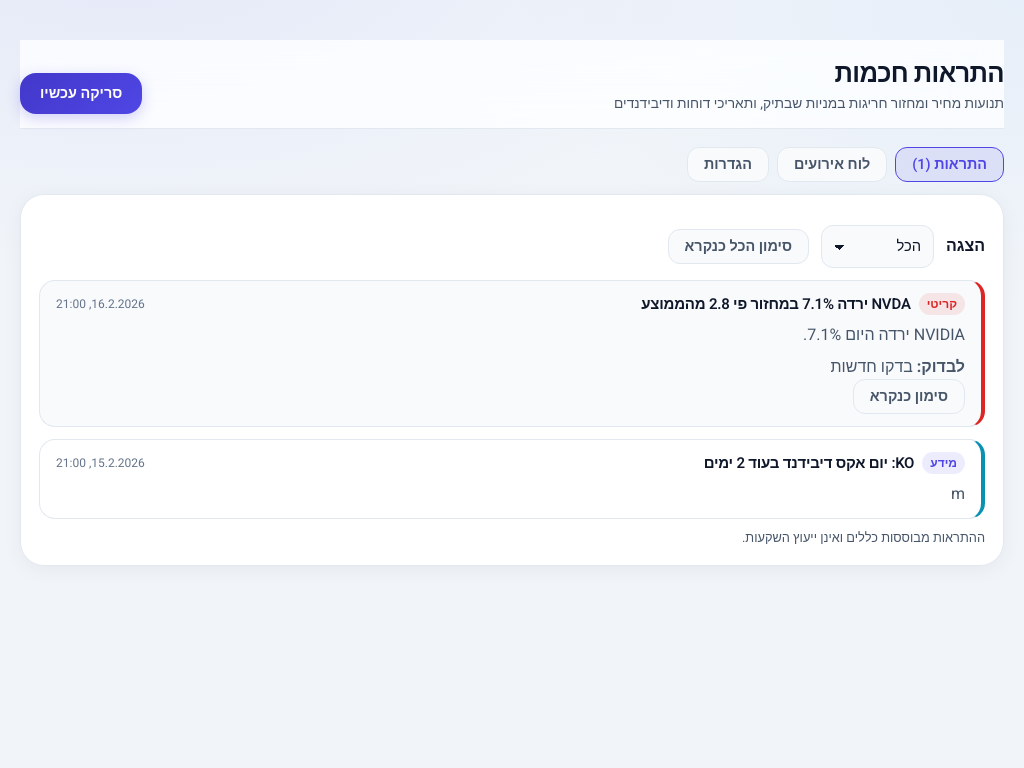
Test: settings tab saves numeric thresholds
The image size is (1024, 768).
Step 1. Click the tab "הגדרות" → coordinates (728, 164), box top-left (687, 147), bottom-right (769, 182)
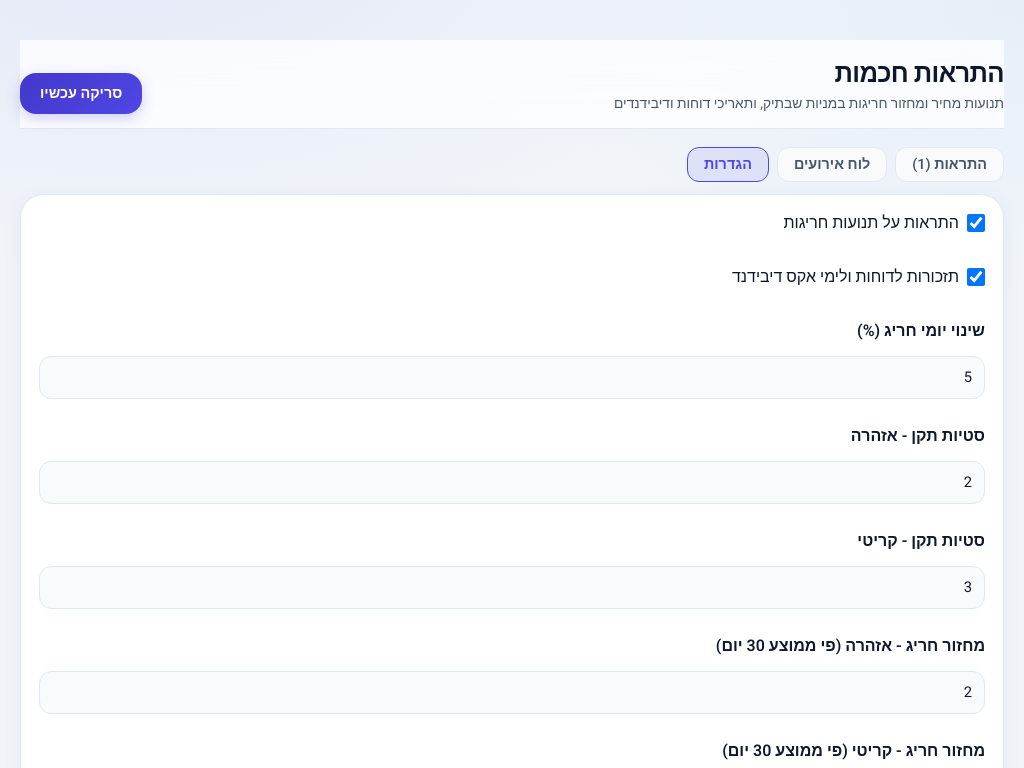
Step 2. Replace the text in the number field labelled "שינוי יומי חריג (%)" with "3.5" → coordinates (512, 378), box top-left (39, 356), bottom-right (985, 399)
(page scrolled)
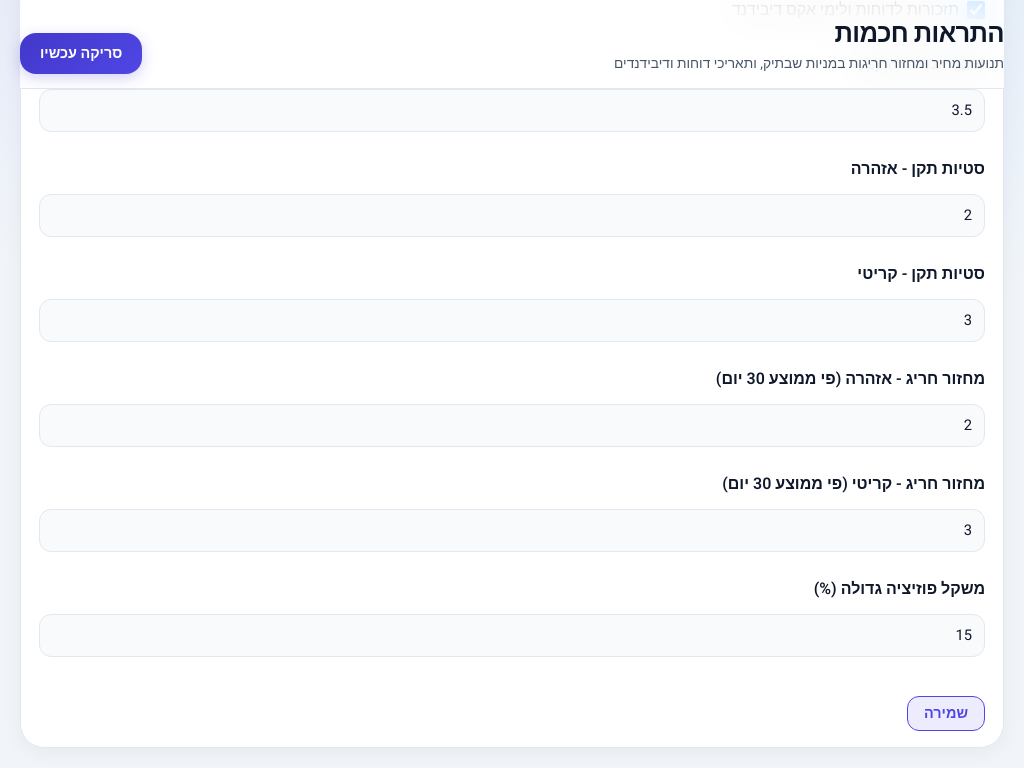
Step 3. Click the button "שמירה" → coordinates (946, 714), box top-left (907, 696), bottom-right (985, 731)
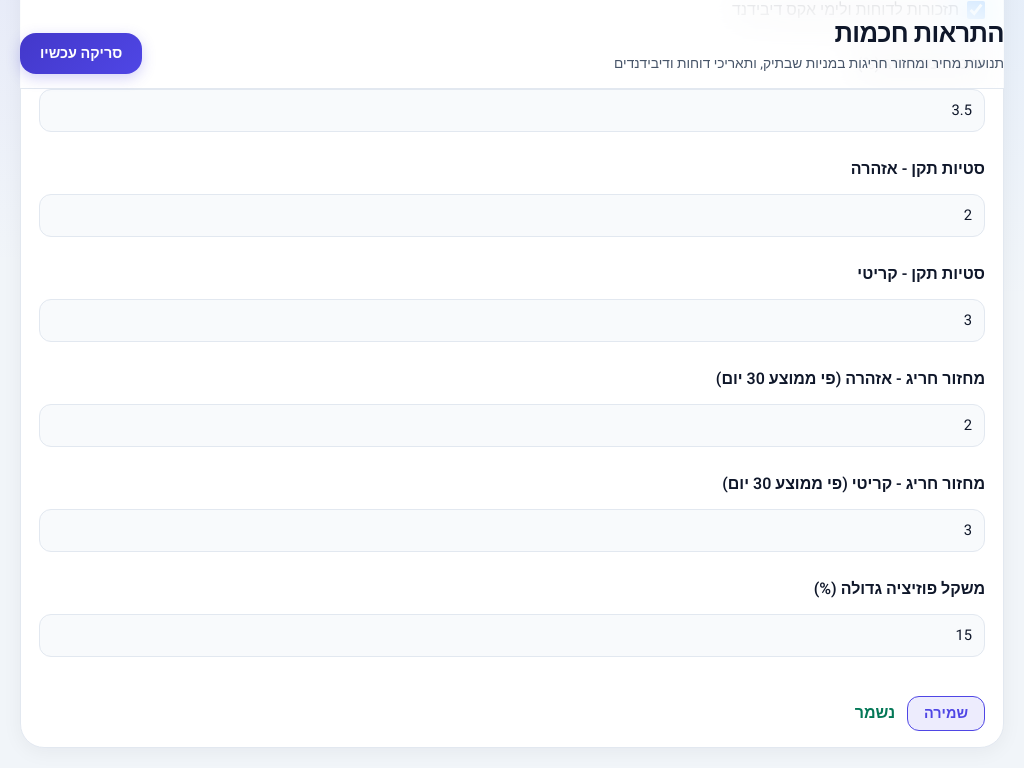
expect the message reads "נשמר": met, box top-left (855, 702), bottom-right (895, 726)
